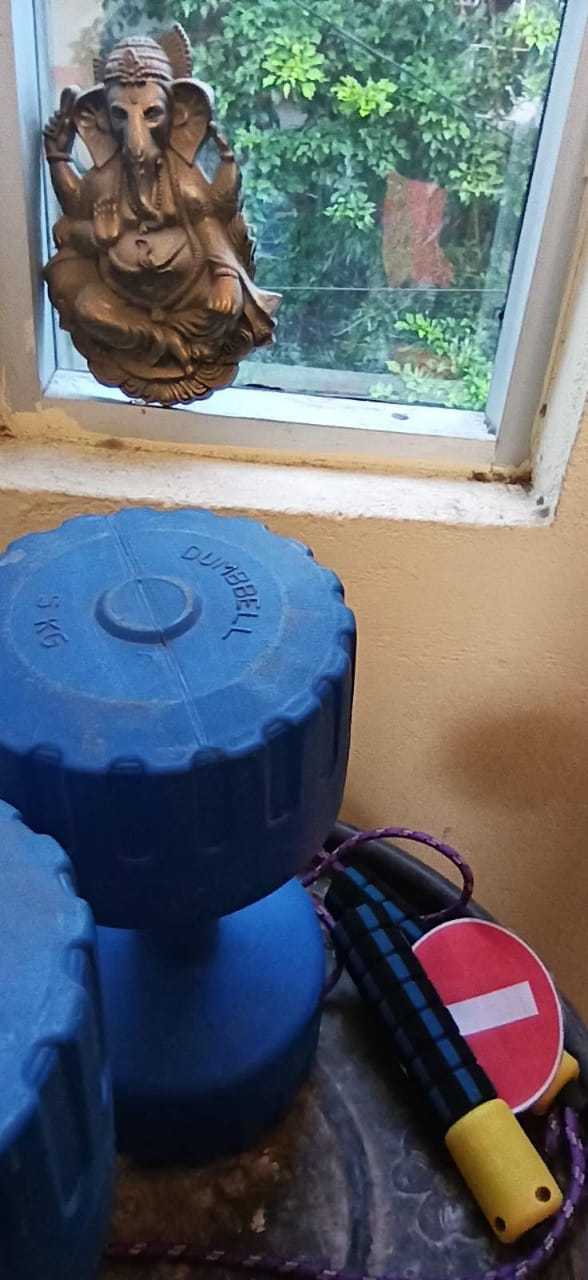NO ENTRY: (396, 906, 584, 1127)
